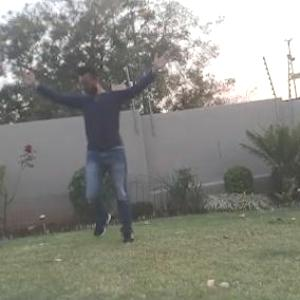takeoff: (16, 54, 172, 254)
